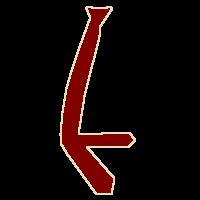tie: (60, 6, 135, 194)
